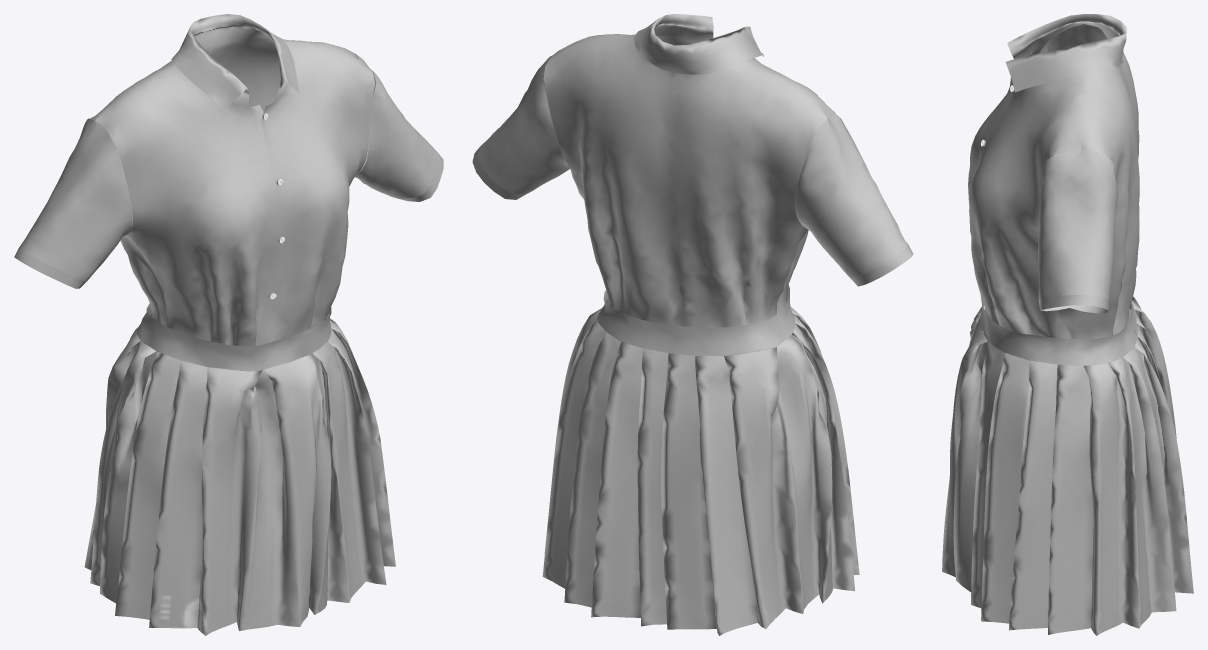
The model's file is skirtDraco.glb.
3 views of the same model, side by side, from view 1: azimuth 30°, elevation 25°; view 2: azimuth 150°, elevation 25°; view 3: azimuth 270°, elevation 25° (orthographic). The views are drawn at different scales.
Parts seen in each view (by area): view 1: object 7, object 15, object 14, object 13, object 11, belt (×2), object 18, object 2, object 8, object 9, object 1, object 17 (+2 smaller); view 2: object 8, object 1, object 2, object 7, object 13, object 11, belt (×3), object 18, object 15, sleeveedge; view 3: object 8, object 7, object 14, object 11, object 2, object 18, belt (×2), sleeveedge, object 13, object 15, object 1, object 17 (+1 smaller).
Boxes of the visible parts, x1=… form: object 7: x1=100, y1=320, x2=395, y2=635; object 15: x1=95, y1=65, x2=272, y2=371; object 14: x1=269, y1=41, x2=375, y2=361; object 13: x1=19, y1=118, x2=132, y2=280; object 11: x1=355, y1=53, x2=438, y2=198; belt (×2): x1=141, y1=307, x2=331, y2=370; object 18: x1=171, y1=14, x2=299, y2=109; object 2: x1=210, y1=35, x2=357, y2=111; object 8: x1=84, y1=318, x2=342, y2=586; object 9: x1=259, y1=102, x2=289, y2=370; object 1: x1=90, y1=46, x2=210, y2=350; object 17: x1=196, y1=30, x2=287, y2=107; object 8: x1=542, y1=308, x2=807, y2=635; object 1: x1=666, y1=60, x2=827, y2=355; object 2: x1=543, y1=34, x2=679, y2=353; object 7: x1=777, y1=306, x2=859, y2=603; object 13: x1=794, y1=115, x2=907, y2=278; object 11: x1=477, y1=56, x2=569, y2=194; belt (×3): x1=597, y1=284, x2=795, y2=355; object 18: x1=633, y1=14, x2=763, y2=74; object 15: x1=745, y1=58, x2=836, y2=337; sleeveedge: x1=850, y1=244, x2=913, y2=286; object 8: x1=1031, y1=296, x2=1193, y2=635; object 7: x1=942, y1=307, x2=1056, y2=630; object 14: x1=969, y1=74, x2=1081, y2=365; object 11: x1=1038, y1=150, x2=1118, y2=300; object 2: x1=1060, y1=65, x2=1139, y2=365; object 18: x1=1005, y1=14, x2=1126, y2=92; belt (×2): x1=980, y1=293, x2=1137, y2=365; sleeveedge: x1=1039, y1=295, x2=1109, y2=313; object 13: x1=1047, y1=24, x2=1107, y2=51; object 15: x1=968, y1=38, x2=1051, y2=205; object 1: x1=1102, y1=30, x2=1139, y2=320; object 17: x1=1015, y1=22, x2=1117, y2=58.
Bounding box in the file's own units: 689 × 858 × 357.
19 materials, 19 textured.
